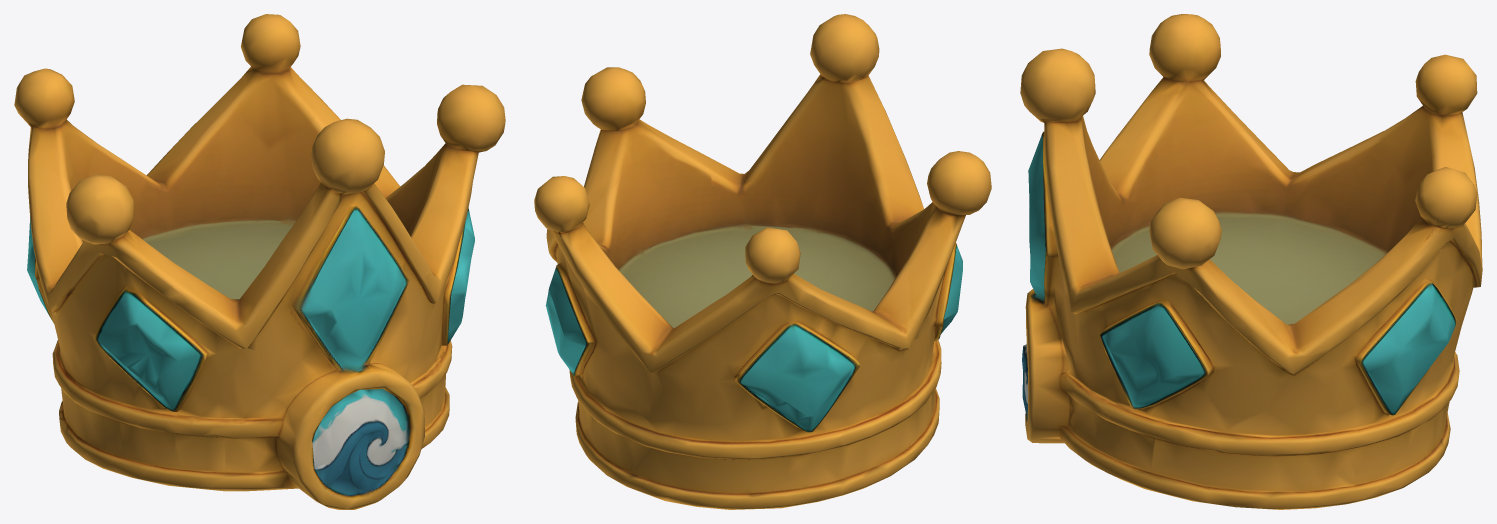
The model's file is nobu_champions_crown.glb.
3 views of the same model, side by side, from view 1: azimuth 30°, elevation 25°; view 2: azimuth 150°, elevation 25°; view 3: azimuth 270°, elevation 25° (orthographic). The views are drawn at different scales.
Visible parts, largest first — view 1: tripo_node_409fd11f-5fce-486a-b3ec-20e9ba081d6a; view 2: tripo_node_409fd11f-5fce-486a-b3ec-20e9ba081d6a; view 3: tripo_node_409fd11f-5fce-486a-b3ec-20e9ba081d6a.
Part boxes in pixels (x1,y1,x2,y2): tripo_node_409fd11f-5fce-486a-b3ec-20e9ba081d6a: (14, 14, 505, 509); tripo_node_409fd11f-5fce-486a-b3ec-20e9ba081d6a: (534, 14, 991, 509); tripo_node_409fd11f-5fce-486a-b3ec-20e9ba081d6a: (1020, 14, 1482, 509).
Size of the model in its own units: 1 by 0.8466 by 0.9114.
1 material, 1 textured.
